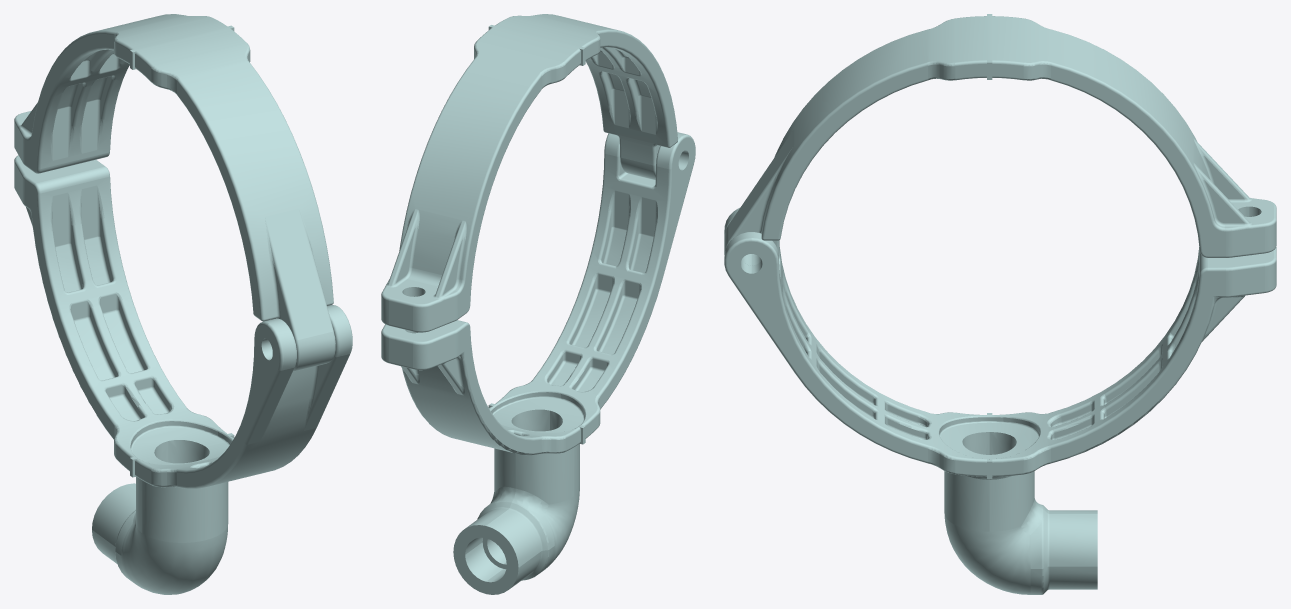
3 renders of one model, left to right at view 1: azimuth 30°, elevation 25°; view 2: azimuth 150°, elevation 25°; view 3: azimuth 270°, elevation 25°, orthographic. The views are drawn at different scales.
Bounding box in the file's own units: 42.5 × 226 × 204.
